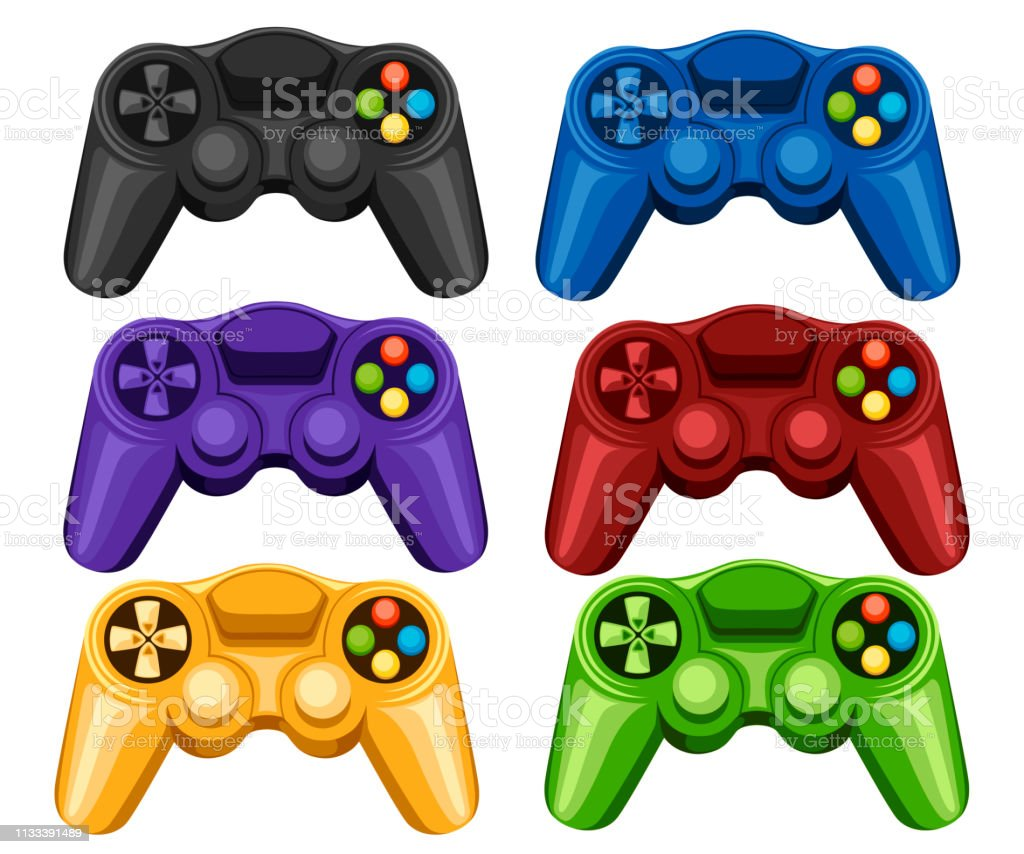controller: (48, 563, 480, 837), (61, 301, 489, 572), (62, 26, 489, 297), (534, 29, 961, 300), (543, 560, 967, 832), (545, 305, 969, 575)
